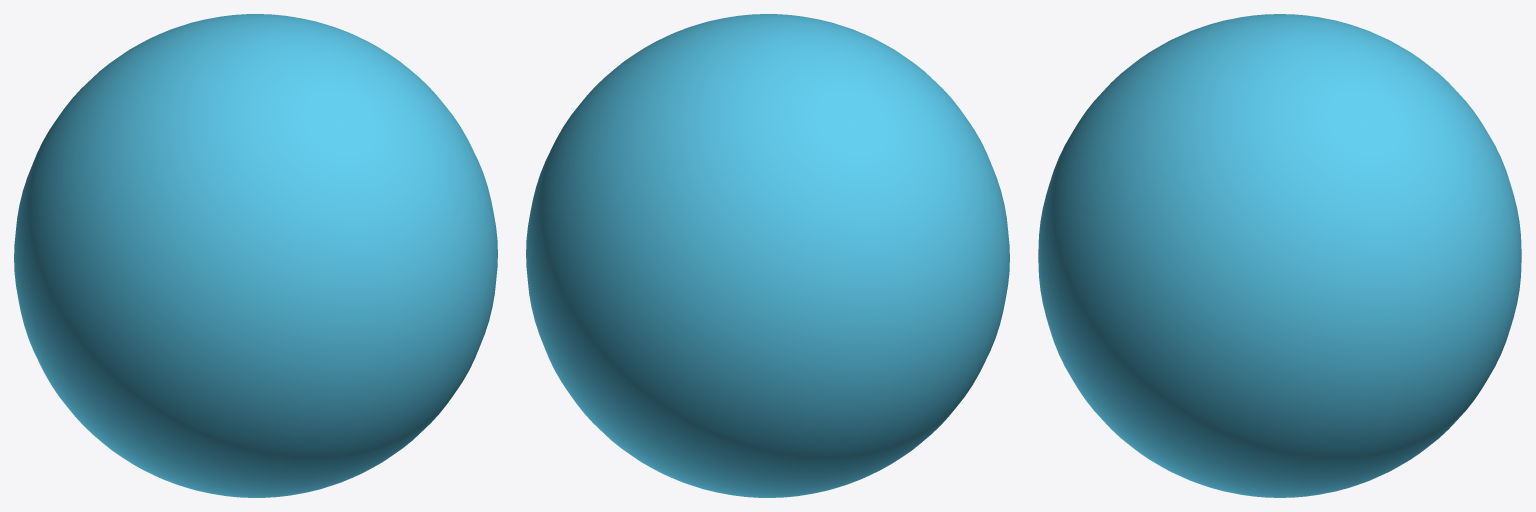
The model's file is SpherePBR.fbx.
3 renders of one model, left to right at view 1: azimuth 30°, elevation 25°; view 2: azimuth 150°, elevation 25°; view 3: azimuth 270°, elevation 25°, orthographic.
Parts seen in each view (by area): view 1: pSphere1; view 2: pSphere1; view 3: pSphere1.
Boxes of the visible parts, x1,y1,x2,y2 form: pSphere1: (14, 14, 497, 497); pSphere1: (526, 14, 1009, 497); pSphere1: (1038, 14, 1521, 497).
Size of the model in its own units: 2 by 2 by 2.
